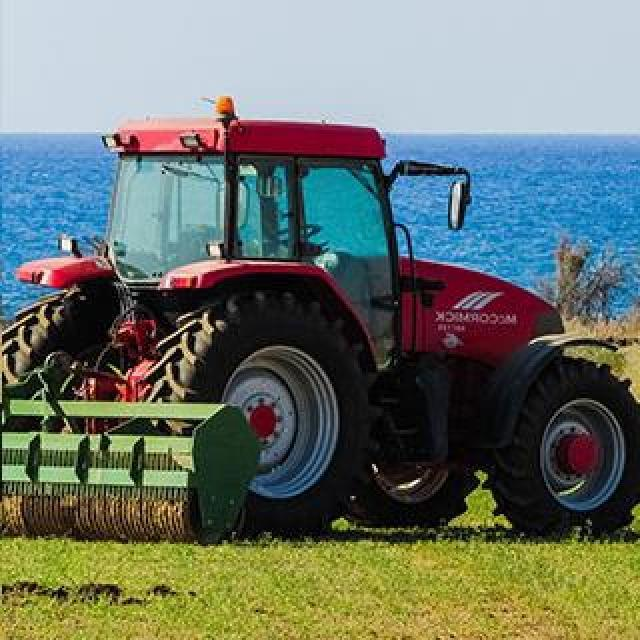Tratores - v5 YOLO V8L 2024-11-13: (0, 101, 626, 554)
